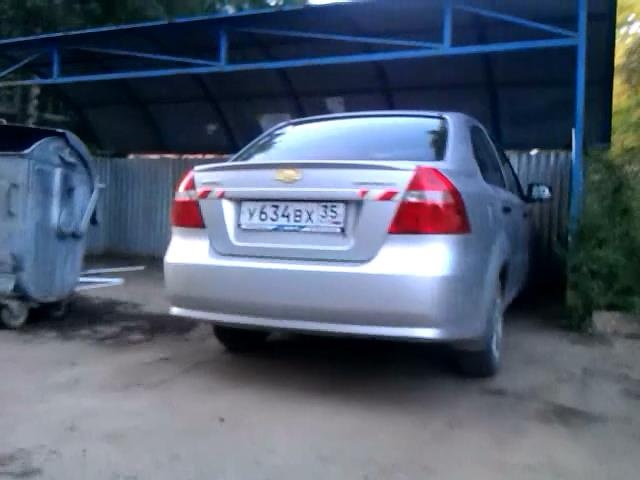car license plate: (239, 198, 349, 240)
